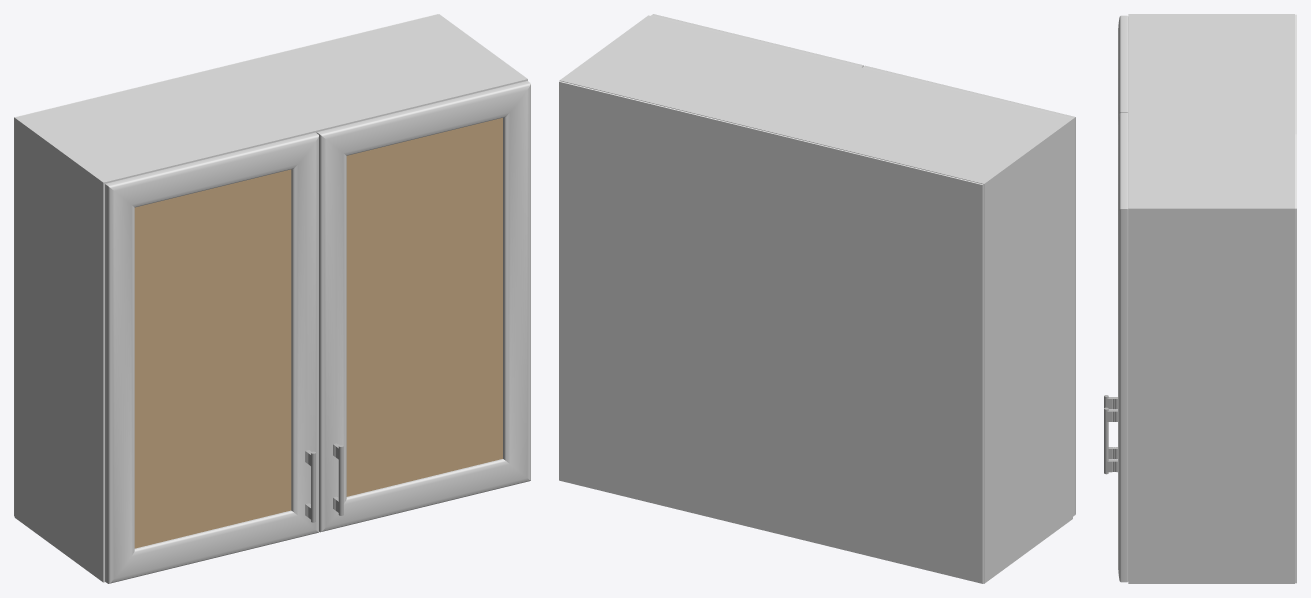
3 views of the same model, side by side, from view 1: azimuth 30°, elevation 25°; view 2: azimuth 150°, elevation 25°; view 3: azimuth 270°, elevation 25° (orthographic). The views are drawn at different scales.
Visible parts, largest first — view 1: V80S siva,gray_001; view 2: V80S siva,gray_001; view 3: V80S siva,gray_001.
Boxes of the visible parts, left/top/right/bottom form: V80S siva,gray_001: left=14, top=14, right=530, bottom=583; V80S siva,gray_001: left=559, top=14, right=1075, bottom=583; V80S siva,gray_001: left=1104, top=14, right=1296, bottom=583.
Bounding box in the file's own units: 800 × 720 × 335.
